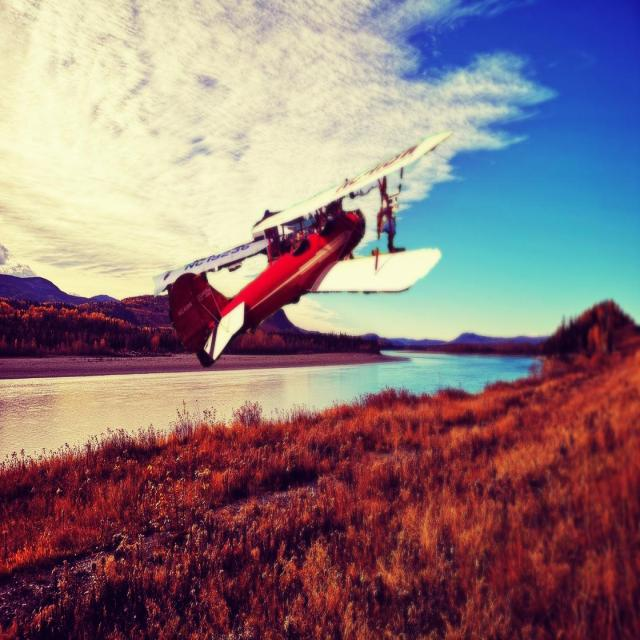airplane: (152, 128, 452, 367)
